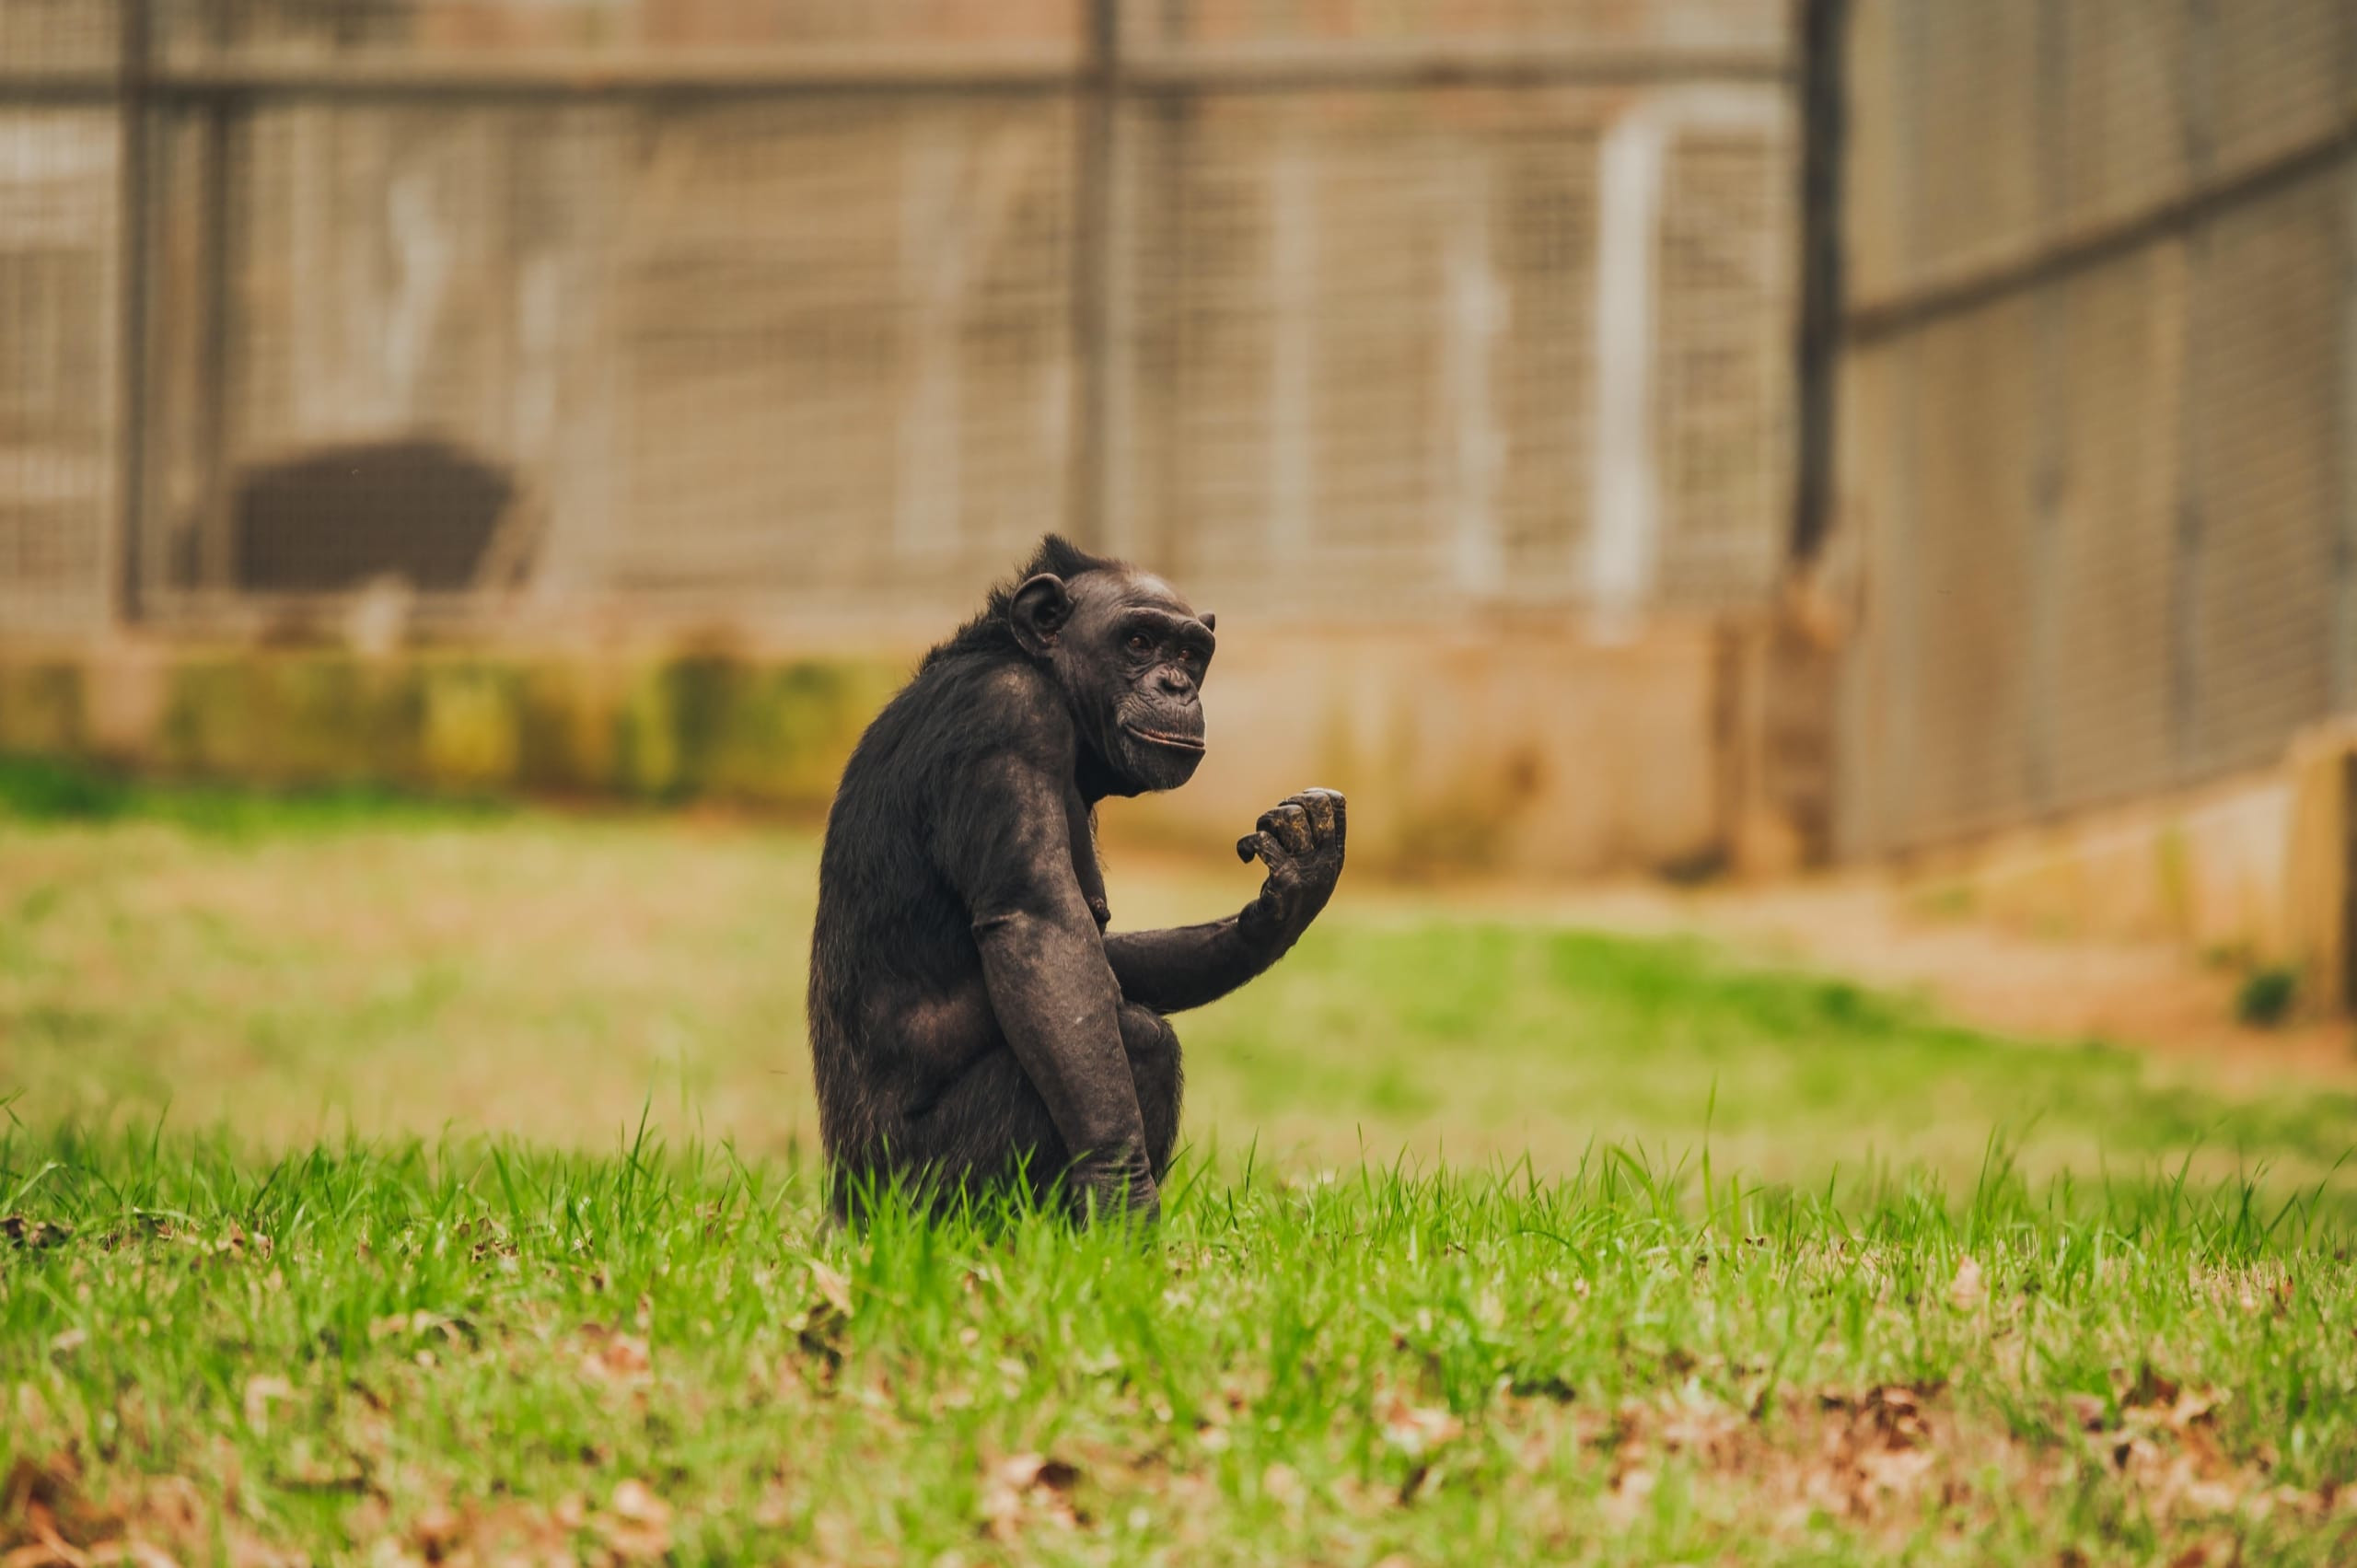ape: (803, 527, 1353, 1265)
